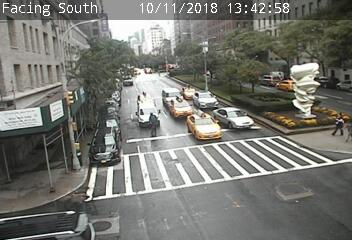car: (90, 128, 121, 164), (186, 113, 222, 141), (213, 107, 253, 130), (137, 103, 160, 128), (169, 98, 193, 119), (193, 91, 218, 109), (161, 88, 183, 108), (277, 80, 299, 92), (136, 93, 153, 108), (256, 75, 280, 85), (181, 88, 197, 99)
